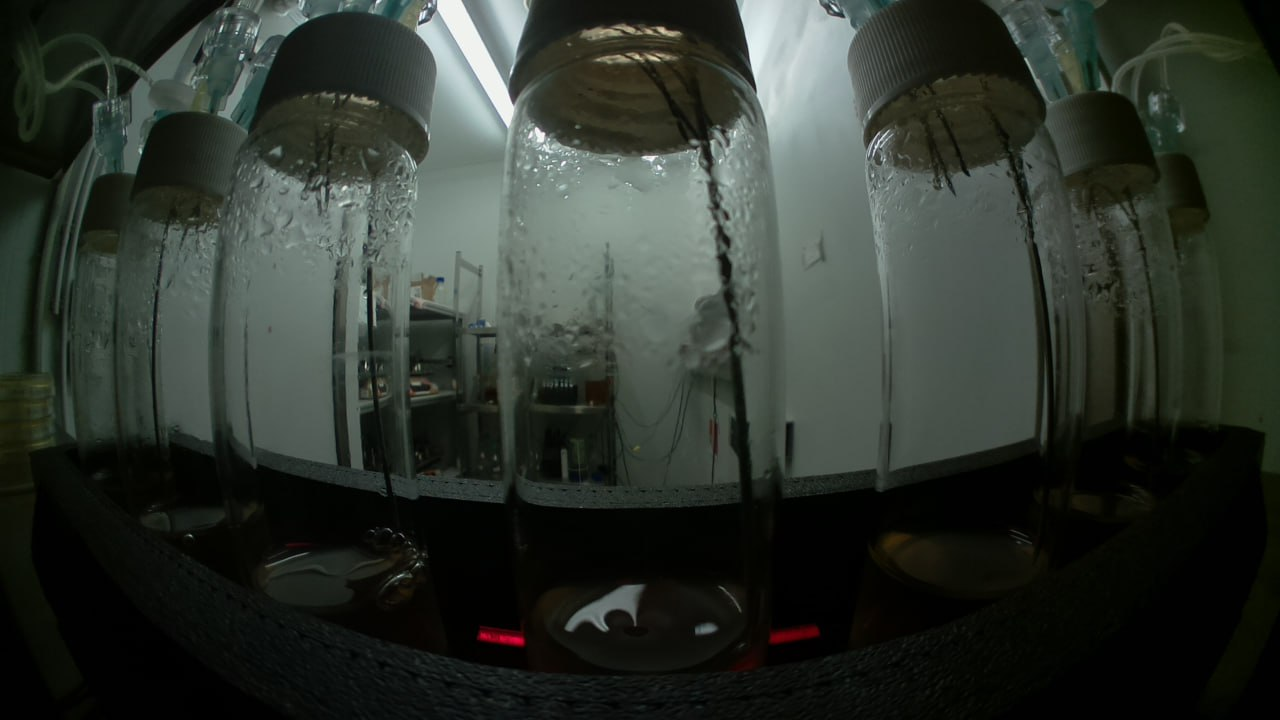vial: (498, 4, 782, 674), (219, 15, 452, 649), (839, 4, 1080, 611), (120, 113, 266, 595), (1043, 89, 1190, 553), (67, 173, 181, 500), (1136, 153, 1226, 495)
